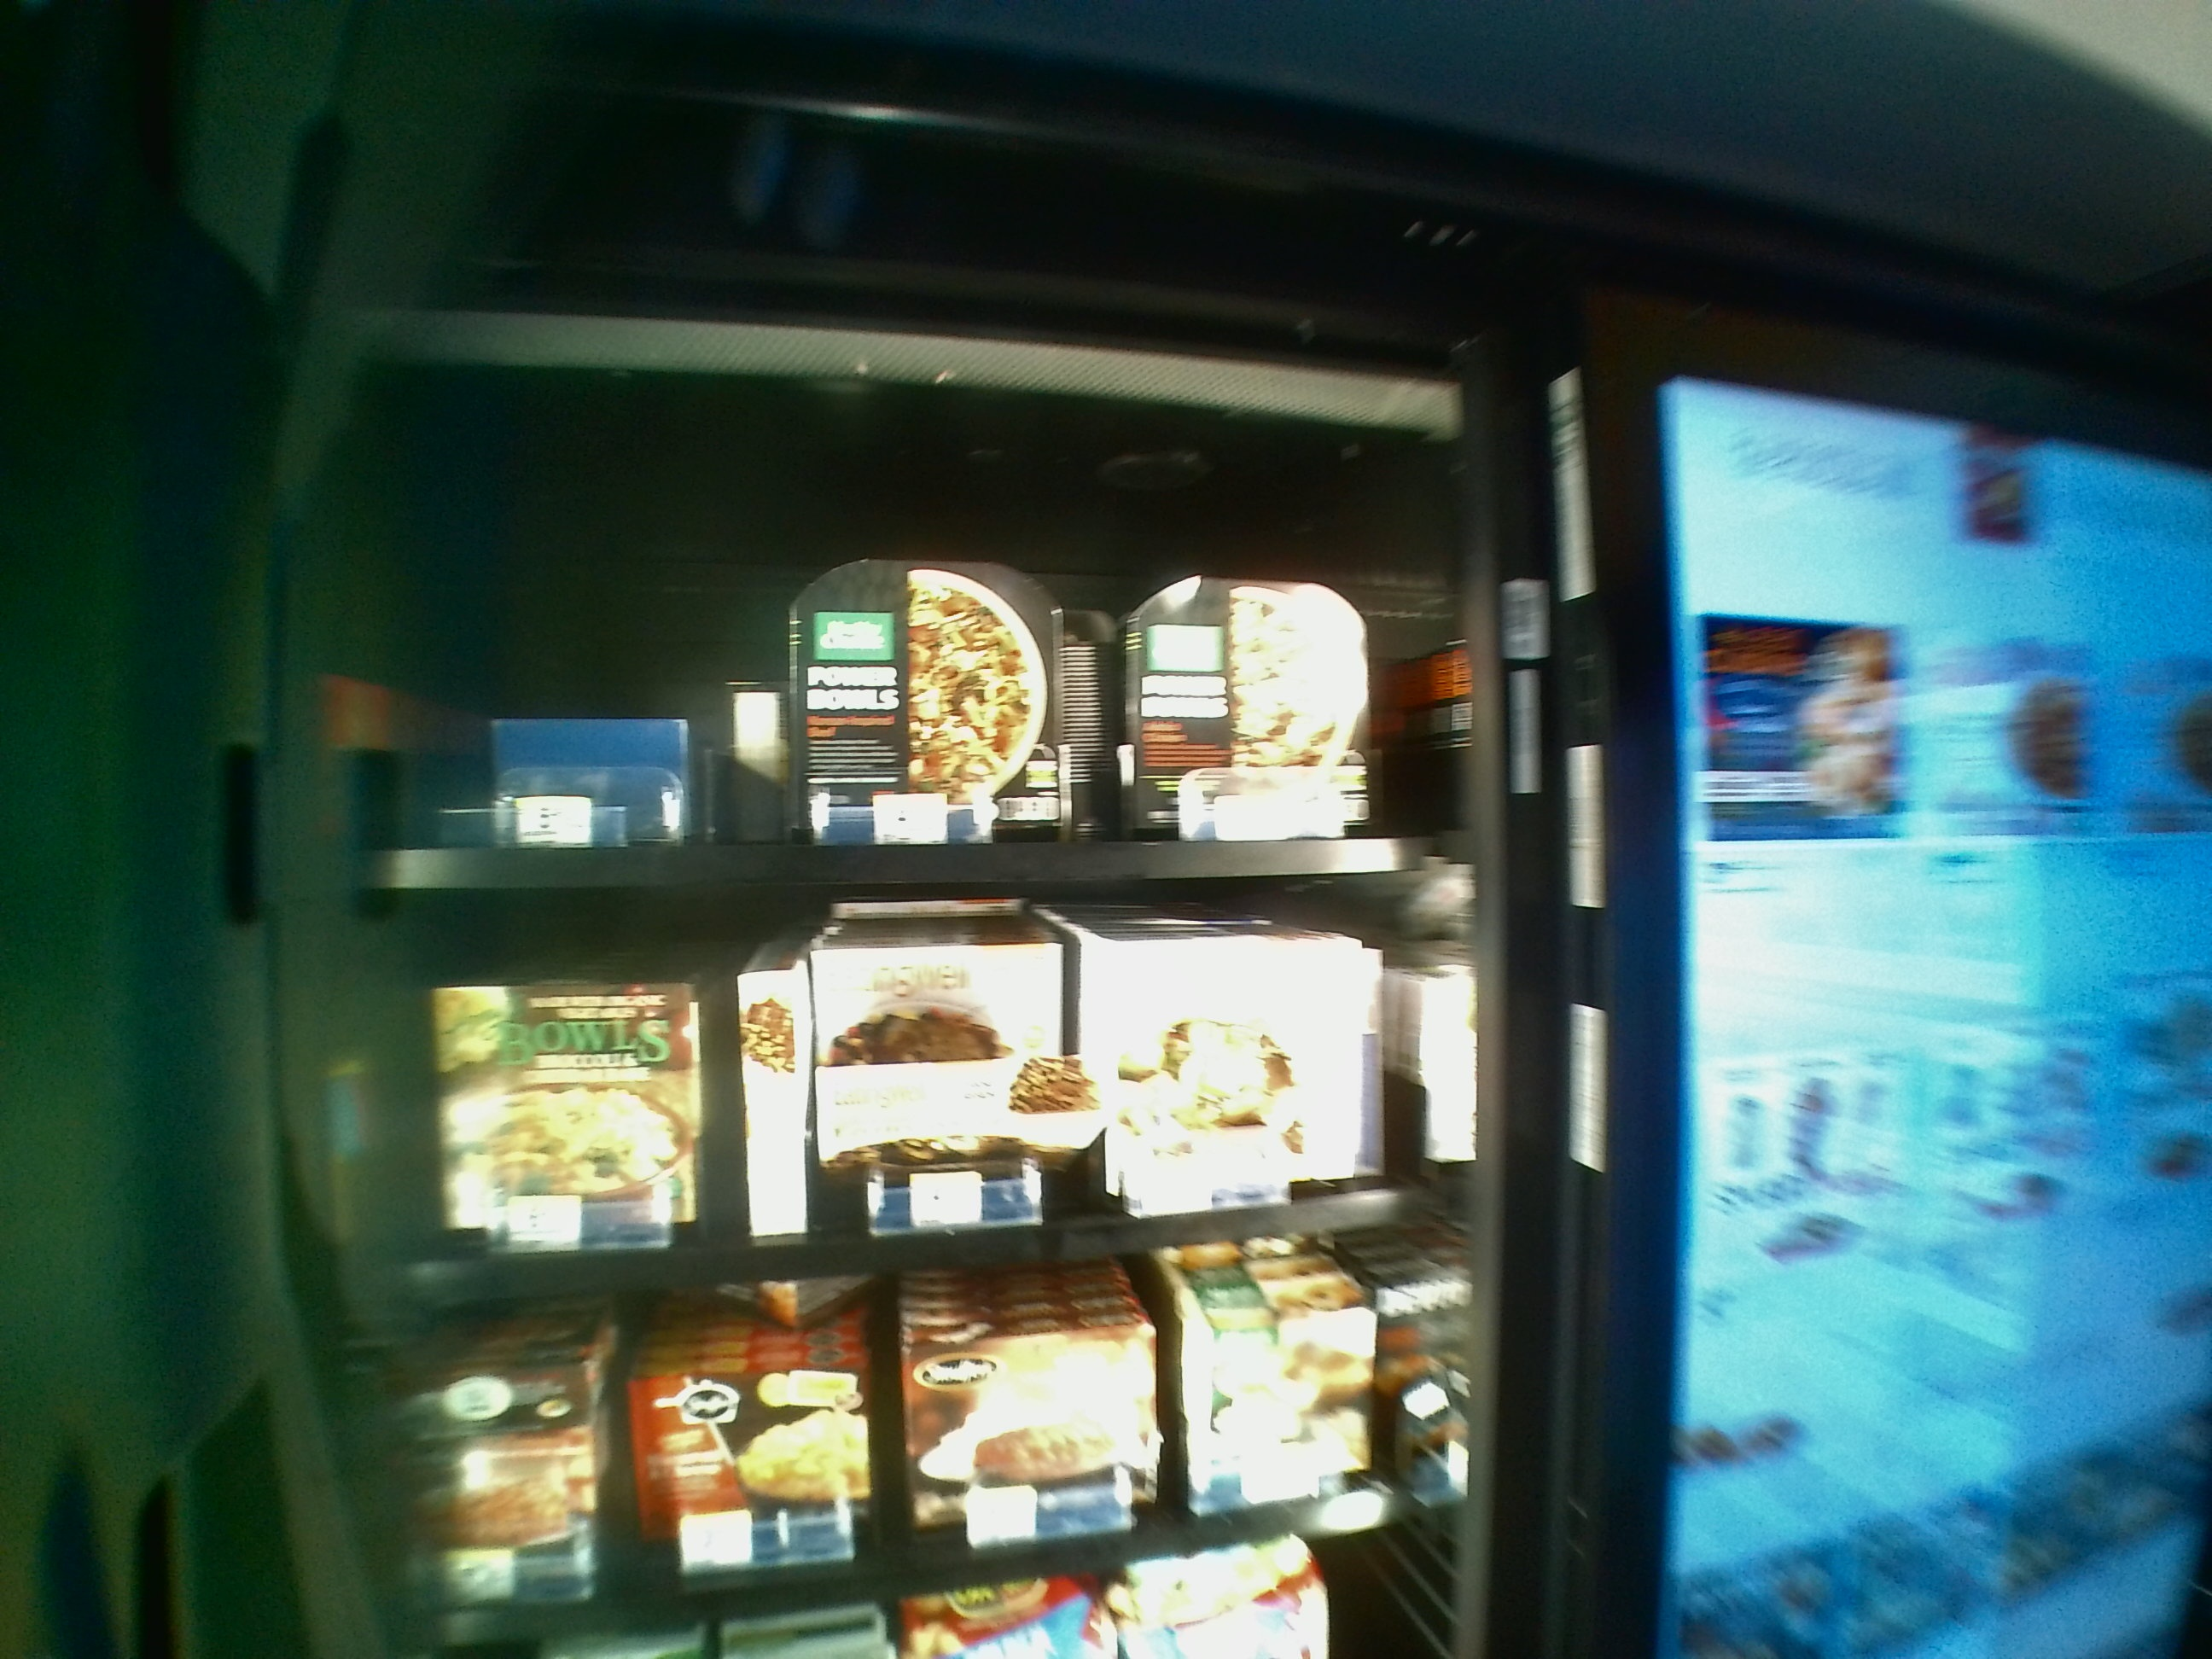shelf: (329, 430, 1456, 884), (334, 899, 1460, 1305)
